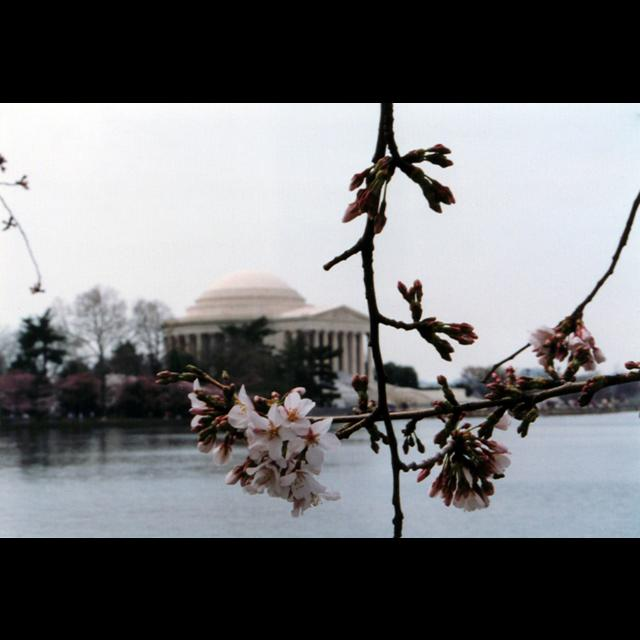Flower: (186, 377, 342, 519), (428, 438, 512, 510), (528, 320, 606, 372), (274, 392, 316, 430), (494, 410, 512, 430)
